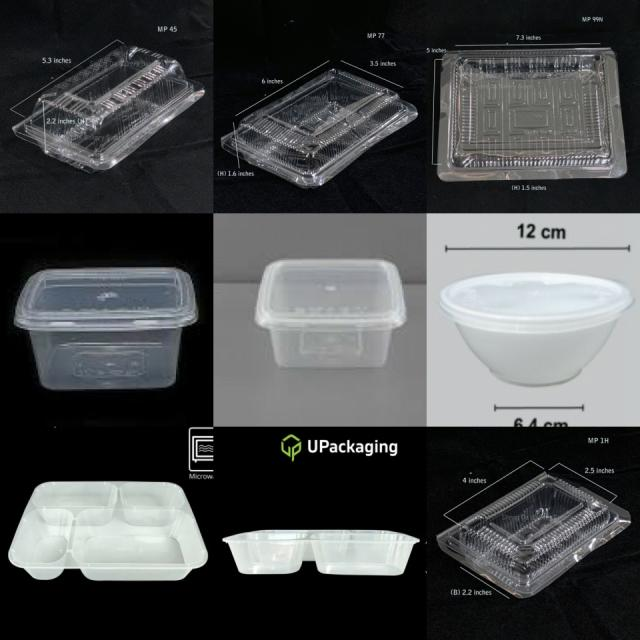Single-Use-Plastic: (11, 40, 204, 172), (438, 48, 628, 181), (438, 472, 630, 598), (221, 69, 418, 188), (14, 268, 198, 390), (439, 272, 632, 386), (8, 482, 208, 580), (255, 259, 406, 369), (224, 530, 419, 574)
